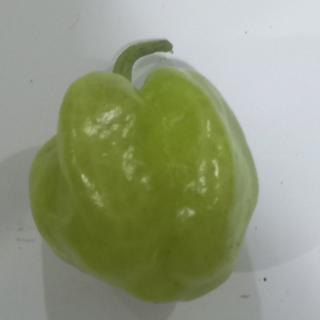Grade-B: (26, 57, 261, 304)
